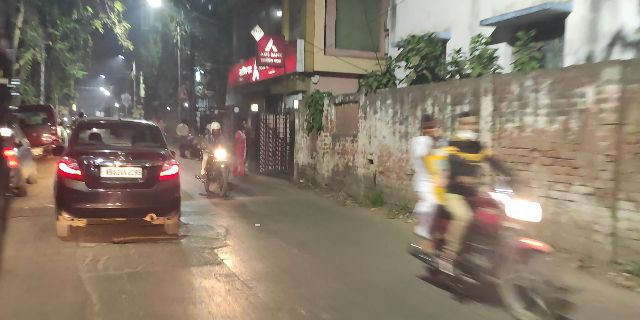Car: (55, 116, 184, 237)
Motorbike: (398, 107, 569, 316), (198, 123, 237, 194)
